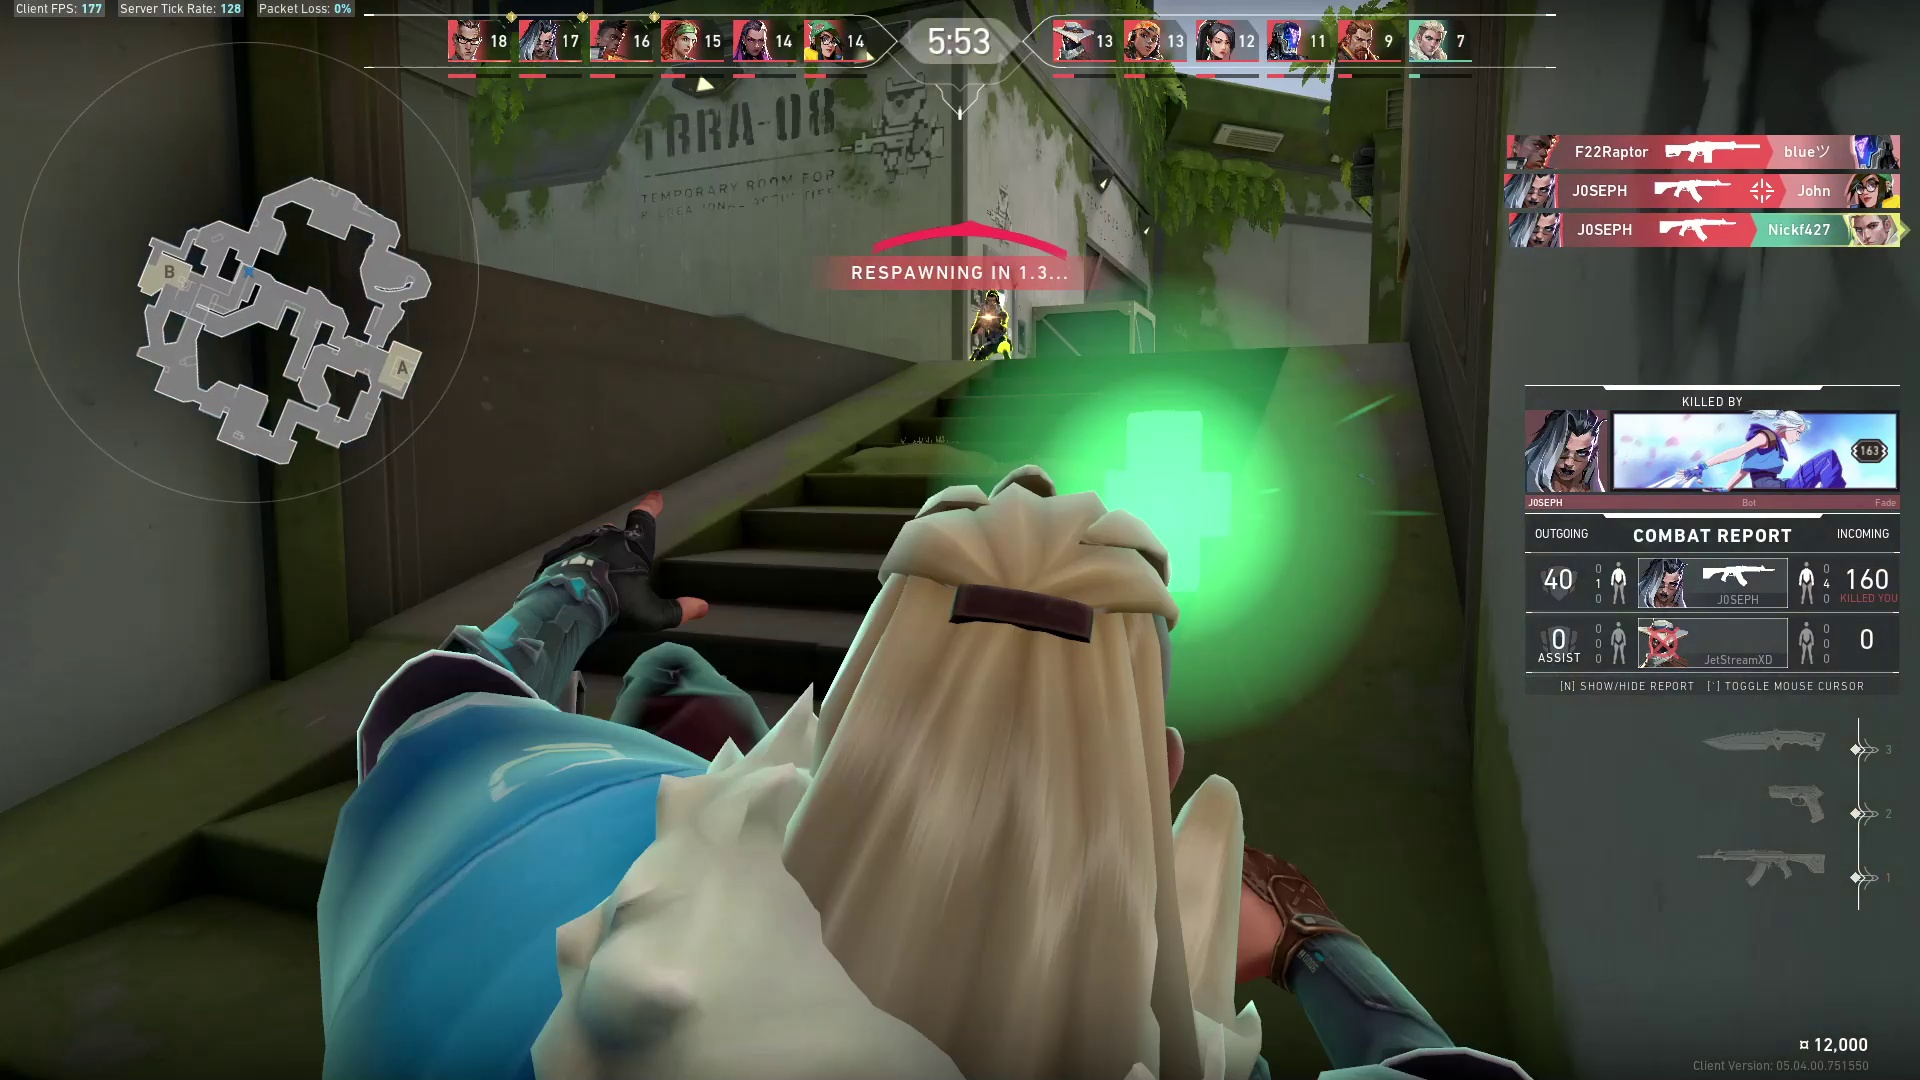enemy_body: (964, 304, 1019, 359)
enemy_head: (974, 284, 1010, 310)
